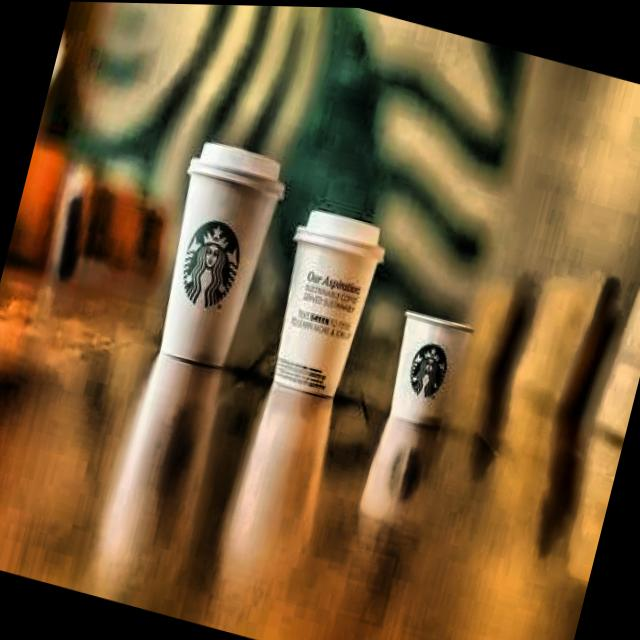Cup: (140, 130, 304, 382), (255, 200, 394, 412), (369, 291, 481, 435)
